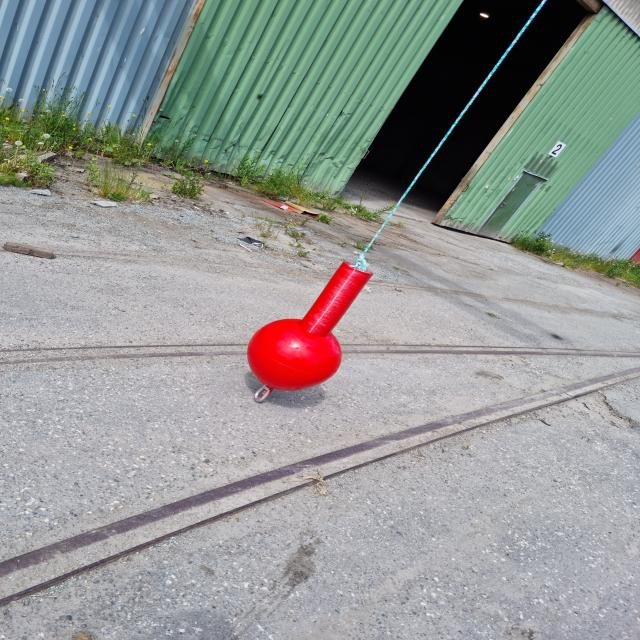red: (248, 264, 374, 389)
